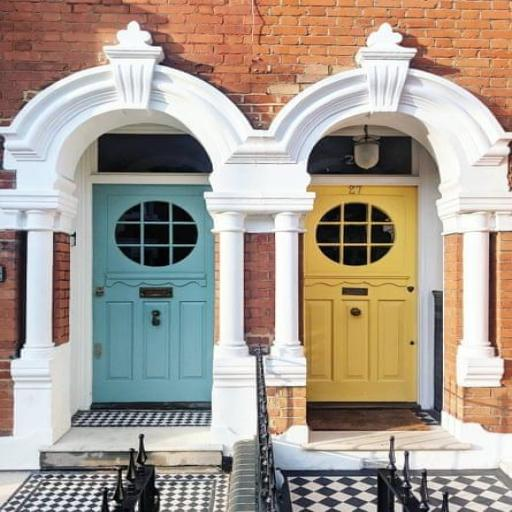door: (88, 142, 242, 434), (309, 142, 450, 436)
